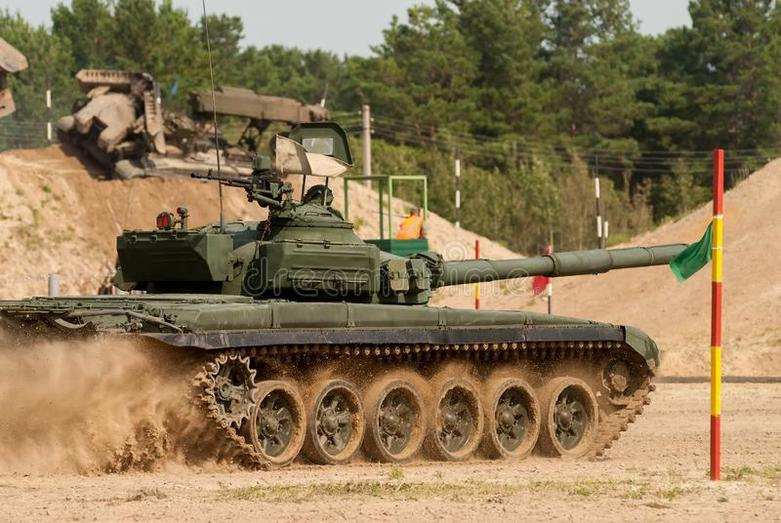t72: (14, 208, 676, 462)
